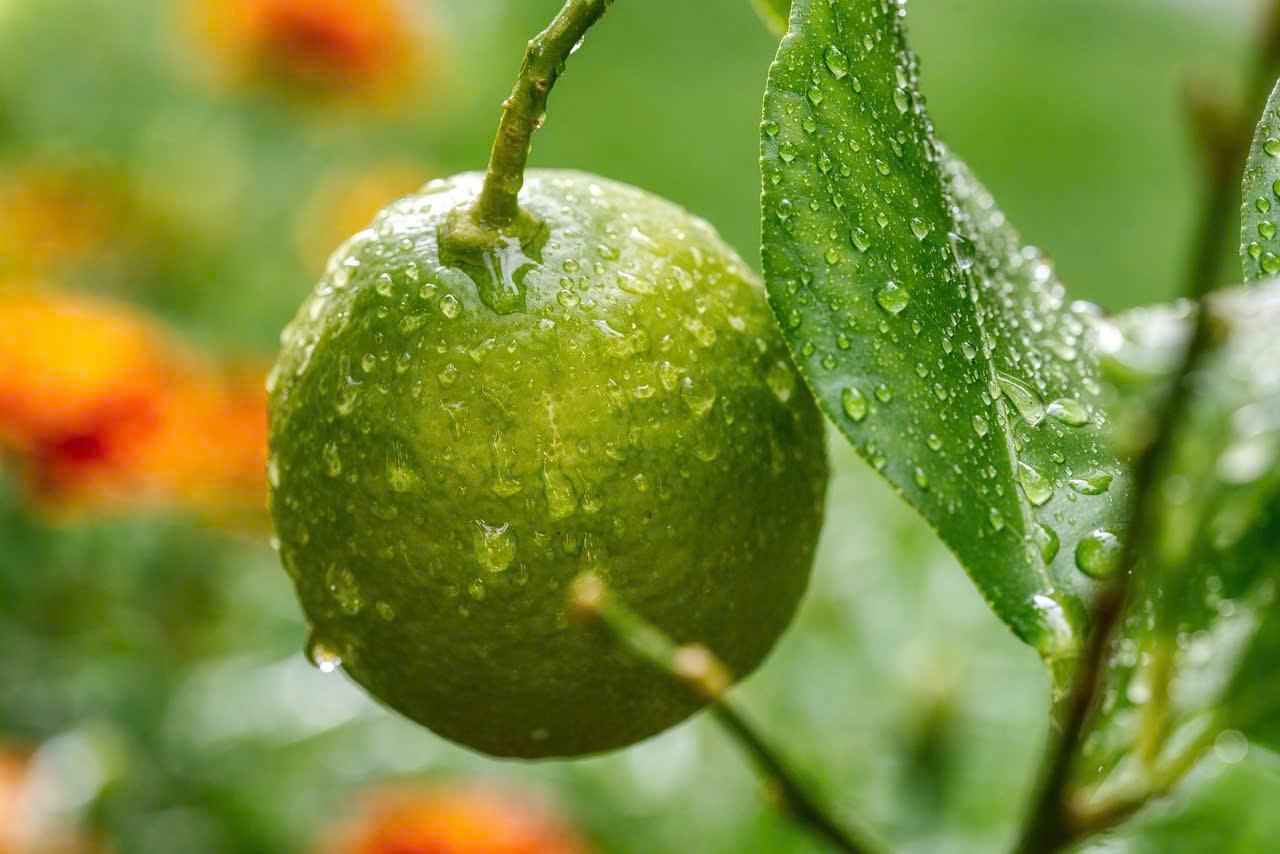grape: (236, 154, 844, 763)
